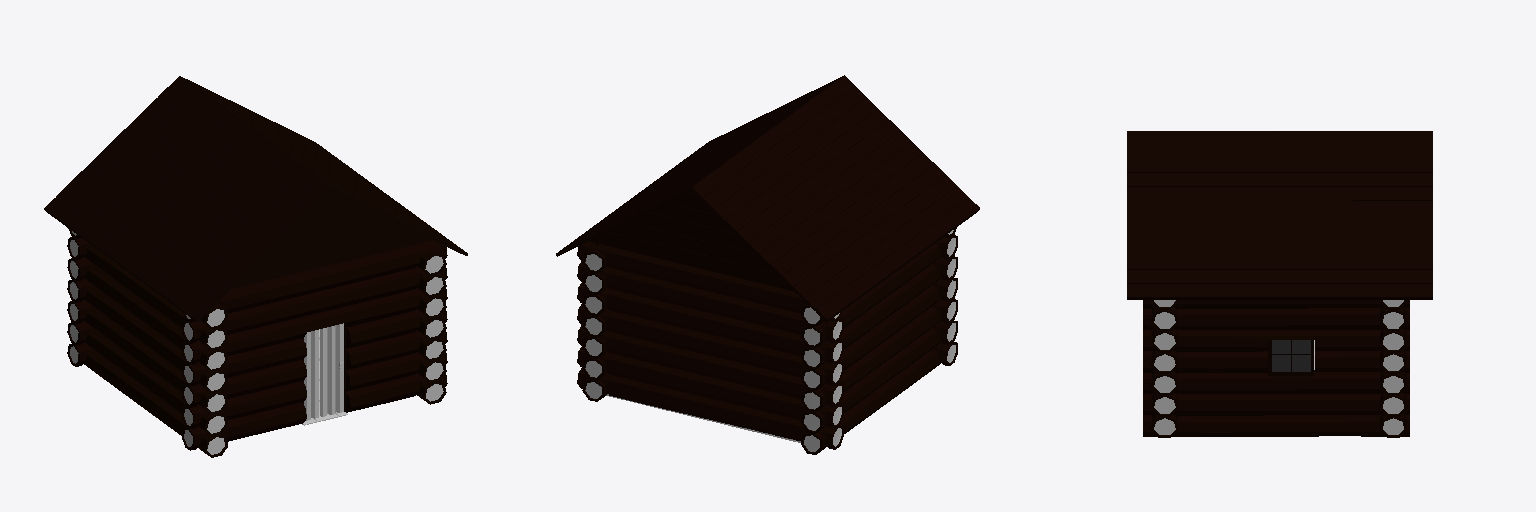
Rendered from house.obj.
3 renders of one model, left to right at view 1: azimuth 30°, elevation 25°; view 2: azimuth 150°, elevation 25°; view 3: azimuth 270°, elevation 25°, orthographic.
Visible parts, largest first — view 1: LogHutV1.1, RoofV1.1, LogDoorV1.1; view 2: LogHutV1.1, RoofV1.1; view 3: RoofV1.1, LogHutV1.1, WindowV1.1.
Boxes of the visible parts, <box> form: LogHutV1.1: <box>67,228,447,457</box>; RoofV1.1: <box>44,76,467,322</box>; LogDoorV1.1: <box>304,323,343,420</box>; LogHutV1.1: <box>577,228,957,454</box>; RoofV1.1: <box>556,75,979,322</box>; RoofV1.1: <box>1127,131,1432,299</box>; LogHutV1.1: <box>1143,300,1409,437</box>; WindowV1.1: <box>1270,340,1312,373</box>.
Bounding box in the file's own units: 0.4164 × 0.3656 × 0.4057.